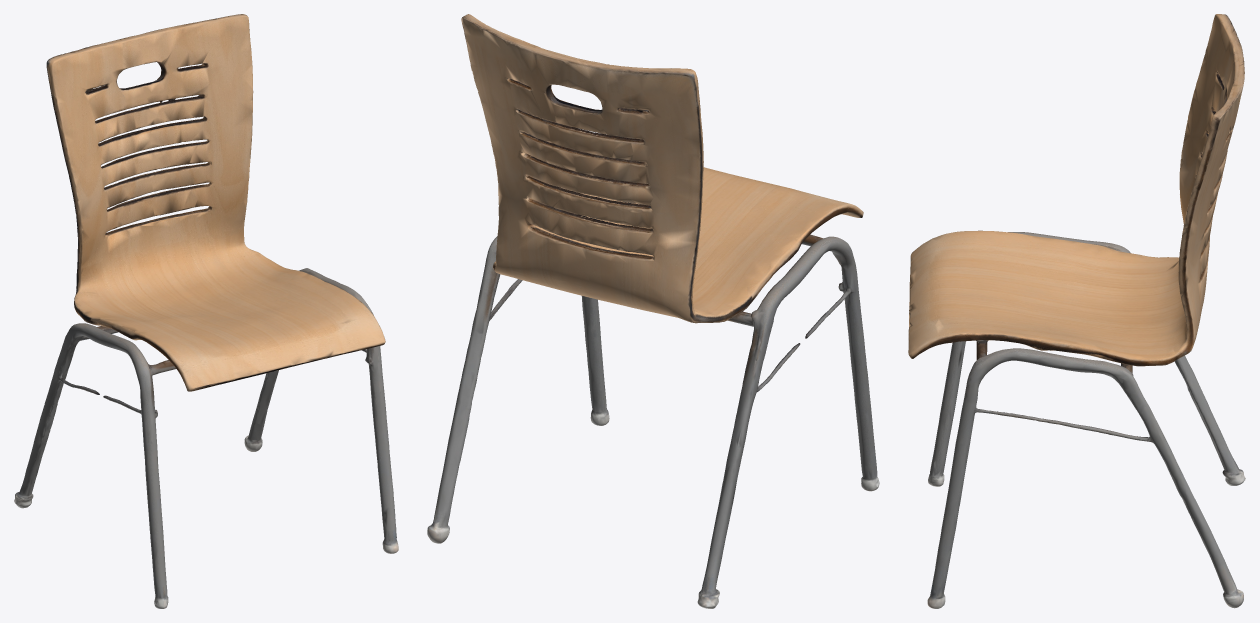
The model's file is dalemans-chair-low-web.glb.
3 renders of one model, left to right at view 1: azimuth 30°, elevation 25°; view 2: azimuth 150°, elevation 25°; view 3: azimuth 270°, elevation 25°, orthographic. The views are drawn at different scales.
Visible parts, largest first — view 1: Mesh_0; view 2: Mesh_0; view 3: Mesh_0.
Part boxes in pixels (x1=…): Mesh_0: x1=14, y1=14, x2=398, y2=608; Mesh_0: x1=427, y1=14, x2=879, y2=608; Mesh_0: x1=908, y1=14, x2=1245, y2=608.
Bounding box in the file's own units: 0.4998 × 0.8699 × 0.5499.
1 material, 1 textured.
